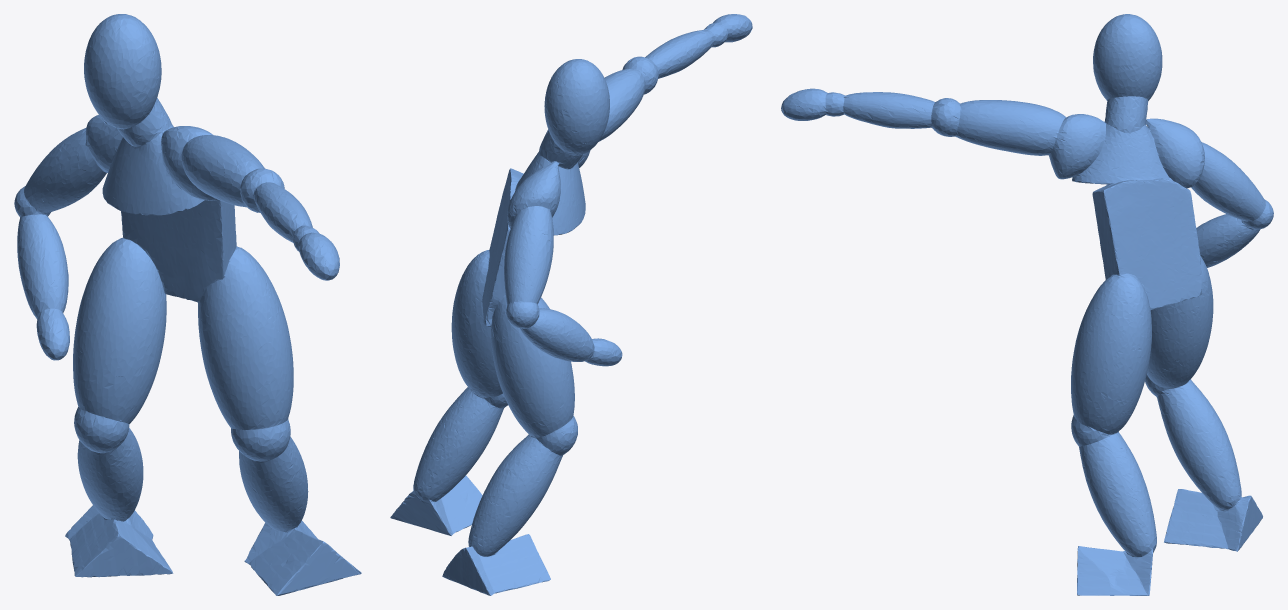
Rendered from animated_mesh.glb.
3 renders of one model, left to right at view 1: azimuth 30°, elevation 25°; view 2: azimuth 150°, elevation 25°; view 3: azimuth 270°, elevation 25°, orthographic. The views are drawn at different scales.
Visible parts, largest first — view 1: AnimatedMesh; view 2: AnimatedMesh; view 3: AnimatedMesh.
Part boxes in pixels (x1=…): AnimatedMesh: x1=14, y1=14, x2=361, y2=595; AnimatedMesh: x1=390, y1=14, x2=752, y2=595; AnimatedMesh: x1=781, y1=14, x2=1273, y2=595.
Size of the model in its own units: 0.9131 by 1.87 by 1.68.
